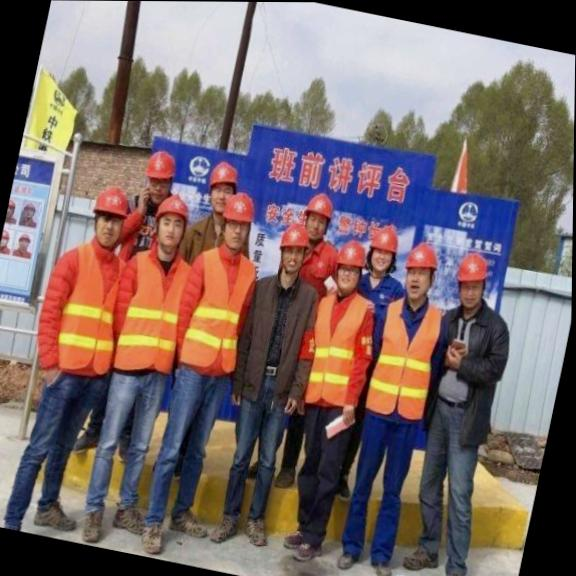no_safety_vest: (415, 297, 518, 446), (223, 269, 324, 411)
safety_vest: (24, 231, 134, 386), (97, 239, 199, 393), (167, 241, 263, 386), (357, 291, 453, 433), (295, 281, 381, 415)
